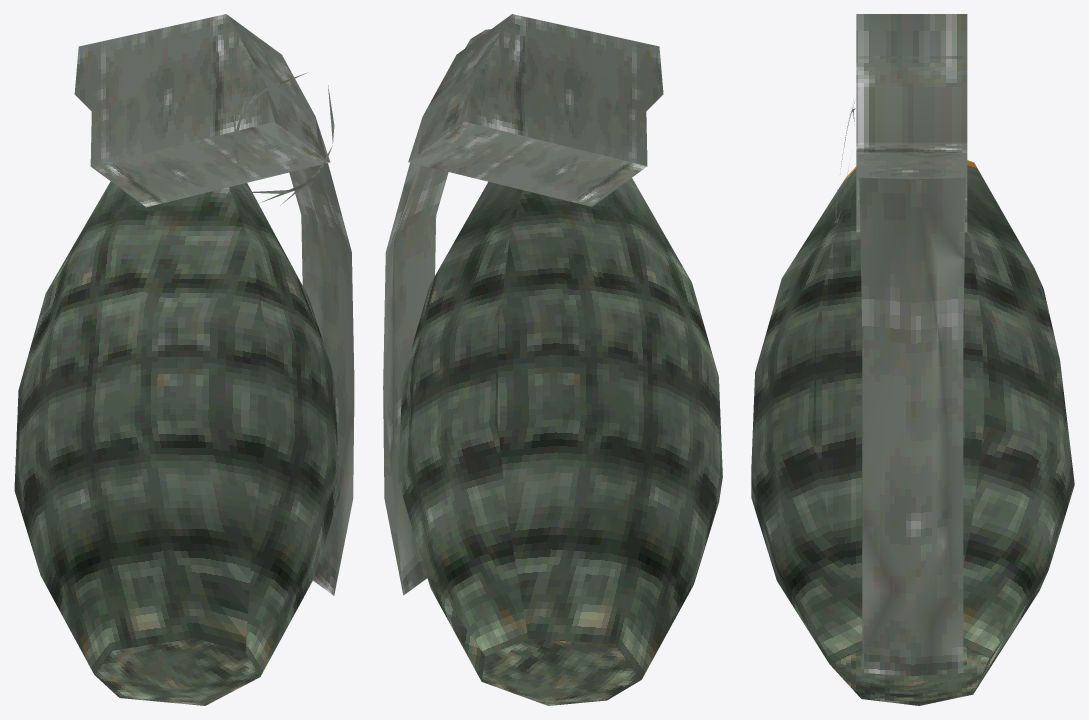
Rendered from ps2_save-icons_mohfrontline.glb.
3 views of the same model, side by side, from view 1: azimuth 30°, elevation 25°; view 2: azimuth 150°, elevation 25°; view 3: azimuth 270°, elevation 25° (orthographic).
Parts seen in each view (by area): view 1: iconlist.ico; view 2: iconlist.ico; view 3: iconlist.ico.
Boxes of the visible parts, <box> form: iconlist.ico: <box>14,14,354,705</box>; iconlist.ico: <box>383,14,722,705</box>; iconlist.ico: <box>751,14,1074,705</box>.
Size of the model in its own units: 0.4931 by 1 by 0.4608.
1 material, 1 textured.
